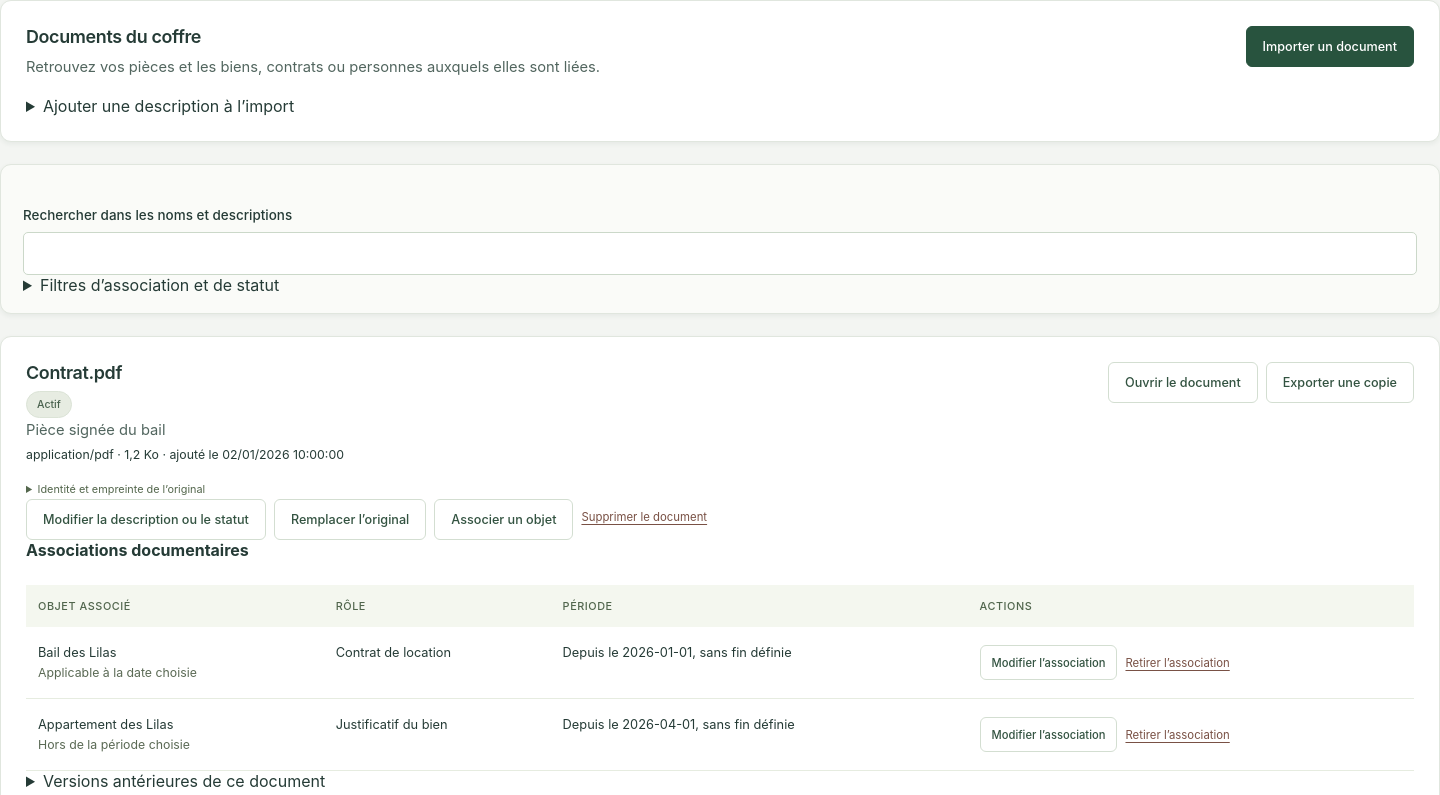
Test: Bibliothèque documentaire et versions › exporte la version courante avec le libellé natif conservé
The image size is (1440, 795).
expect the heading "Documents du coffre" is shown: met, box [26,26,201,47]
Click the button with aria-label "Exporter une copie de Contrat.pdf" at (1340, 382), box [1266,362,1414,403]
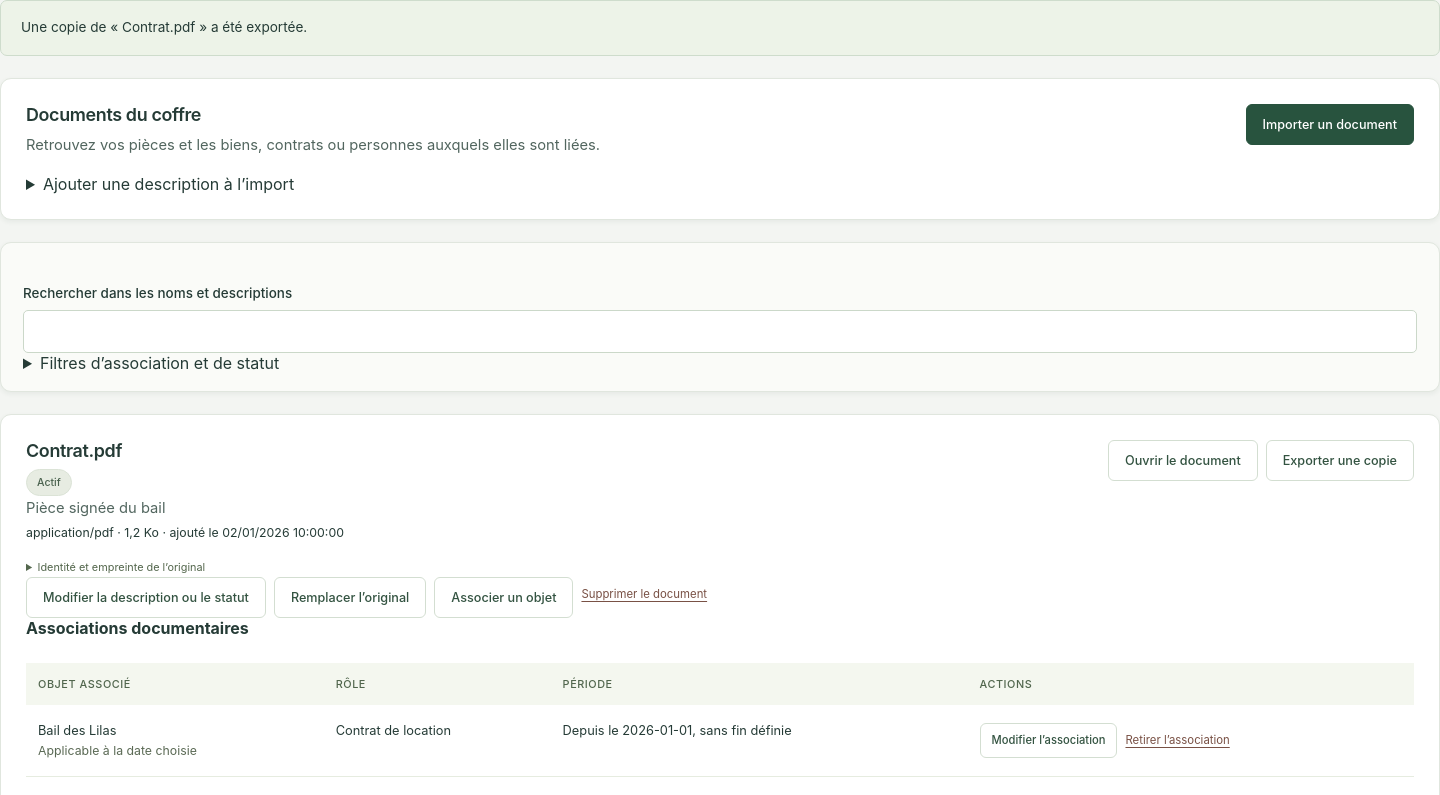
expect the text "Une copie de « Contrat.pdf » a été exportée." is shown: met, box [0,0,1439,56]
